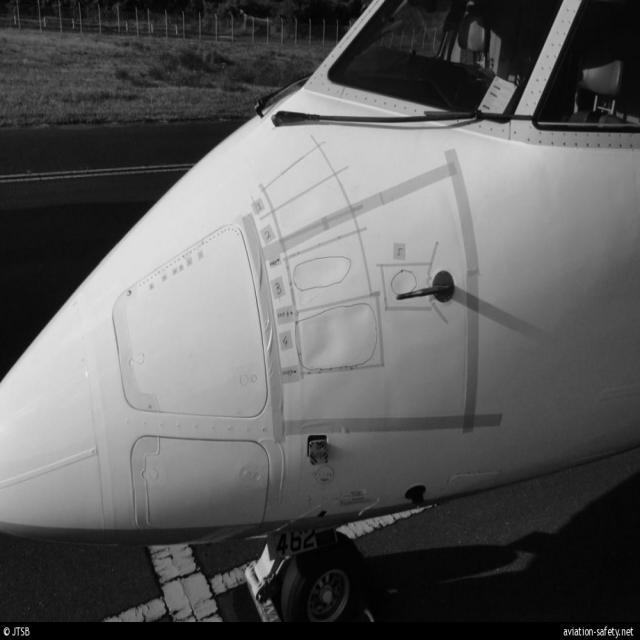dent: (303, 306, 374, 367), (295, 257, 352, 292), (306, 333, 339, 369), (391, 270, 418, 298)
